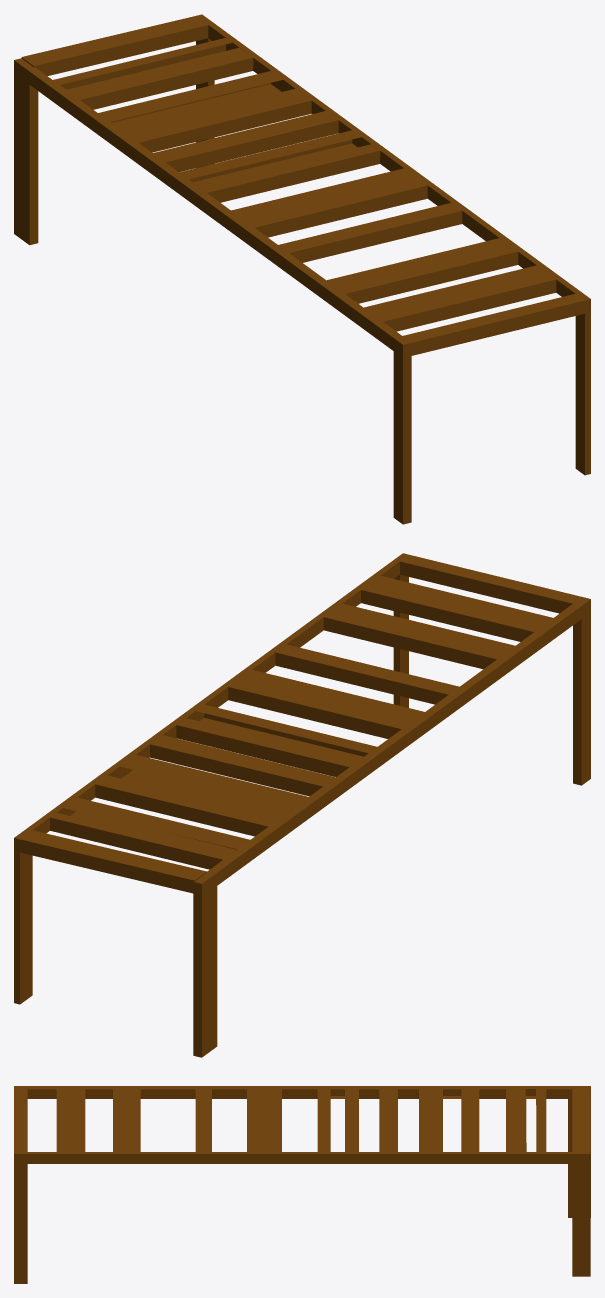
File: ladder.fbx
3 views of the same model, one above another, from view 1: azimuth 30°, elevation 25°; view 2: azimuth 150°, elevation 25°; view 3: azimuth 270°, elevation 25° (orthographic). The views are drawn at different scales.
Parts seen in each view (by area): view 1: Cube; view 2: Cube; view 3: Cube.
Boxes of the visible parts, x1,y1,x2,y2 form: Cube: [14, 14, 590, 524]; Cube: [14, 553, 590, 1057]; Cube: [14, 1086, 590, 1283].
Size of the model in its own units: 212 by 195 by 759.
